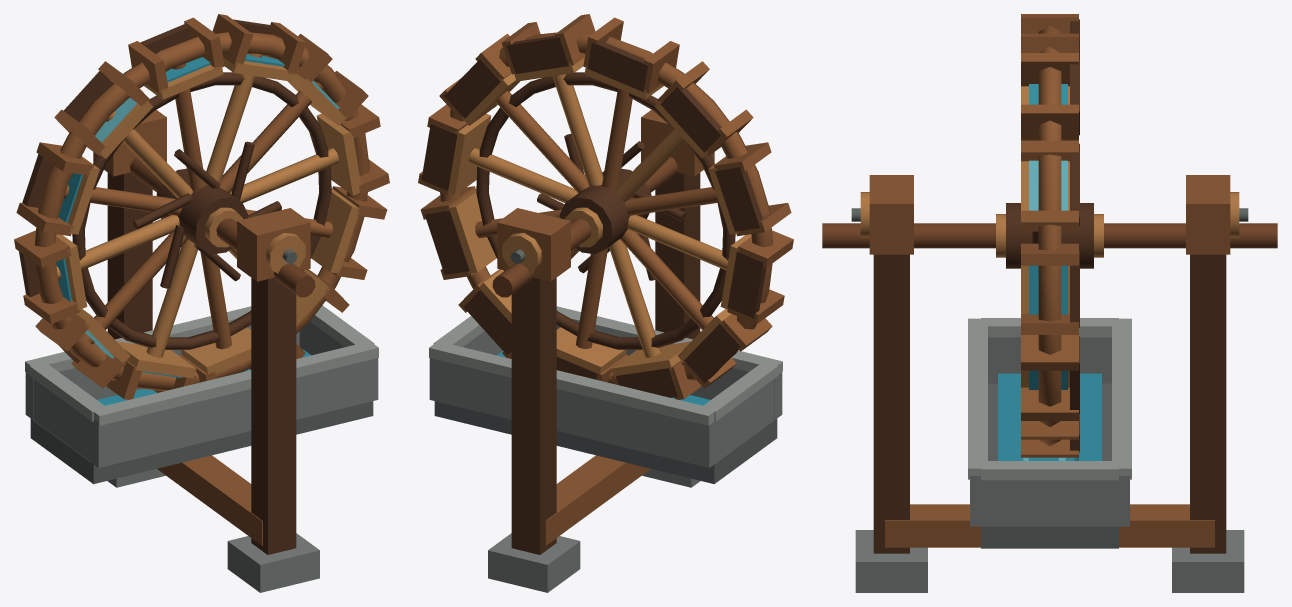
Rendered from asset.glb.
The picture shows the model from 3 angles, left to right: view 1: azimuth 30°, elevation 25°; view 2: azimuth 150°, elevation 25°; view 3: azimuth 270°, elevation 25°; orthographic projection. The views are drawn at different scales.
Visible parts, largest first — view 1: waterWheel, AxleSupports, StoneTrough, Bucket_9, Bucket_11, Bucket_10, Bucket_12, Bucket_8, Bucket_5, Bucket_6, Bucket_1, Bucket_7 (+3 smaller); view 2: waterWheel, AxleSupports, StoneTrough, Bucket_5, Bucket_6, Bucket_12, Bucket_9, Bucket_11, Bucket_8, Bucket_10, Bucket_1, Bucket_7 (+3 smaller); view 3: AxleSupports, StoneTrough, waterWheel, Bucket_7, Bucket_6, Bucket_8, Bucket_5, Bucket_9, Bucket_4.
Part boxes in pixels (x1,y1,x2,y2): waterWheel: (35,32,369,391); AxleSupports: (93,109,319,592); StoneTrough: (25,305,378,484); Bucket_9: (128,17,224,99); Bucket_11: (16,142,99,236); Bucket_10: (54,61,153,158); Bucket_12: (14,230,87,324); Bucket_8: (212,14,306,81); Bucket_5: (311,186,387,279); Bucket_6: (316,104,389,195); Bucket_1: (35,309,130,388); Bucket_7: (287,33,368,125); waterWheel: (440,32,772,383); AxleSupports: (488,109,714,592); StoneTrough: (429,306,782,484); Bucket_5: (420,186,496,279); Bucket_6: (418,104,491,195); Bucket_12: (720,230,793,324); Bucket_9: (583,17,679,99); Bucket_11: (708,142,791,236); Bucket_8: (501,14,595,81); Bucket_10: (654,61,753,158); Bucket_1: (677,309,772,388); Bucket_7: (439,33,520,125); AxleSupports: (851,175,1248,592); StoneTrough: (968,318,1131,548); waterWheel: (822,25,1277,446); Bucket_7: (1021,140,1079,231); Bucket_6: (1021,243,1079,334); Bucket_8: (1021,53,1079,140); Bucket_5: (1021,335,1079,420); Bucket_9: (1021,14,1079,60); Bucket_4: (1021,414,1079,457).
Size of the model in its own units: 4.44 by 5.98 by 4.55.
